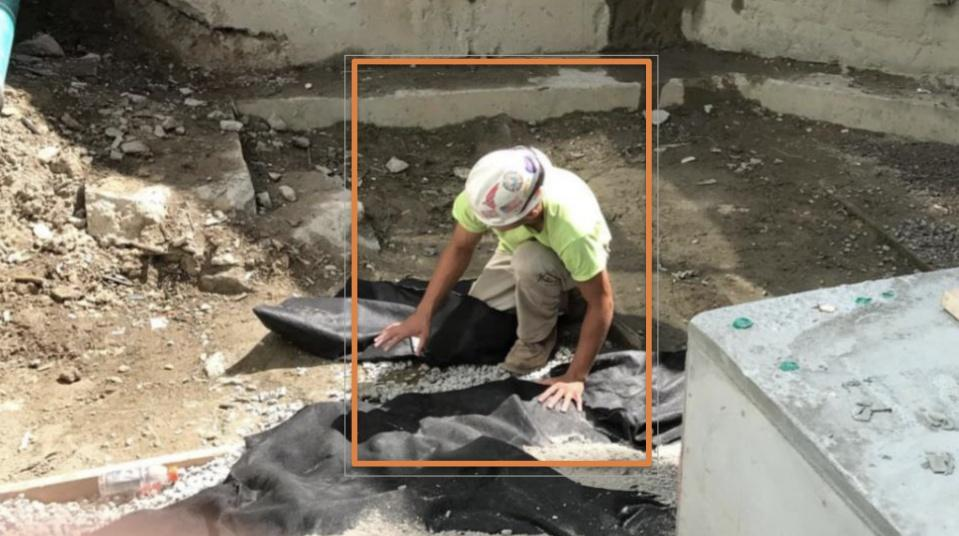helmet: (458, 152, 546, 232)
